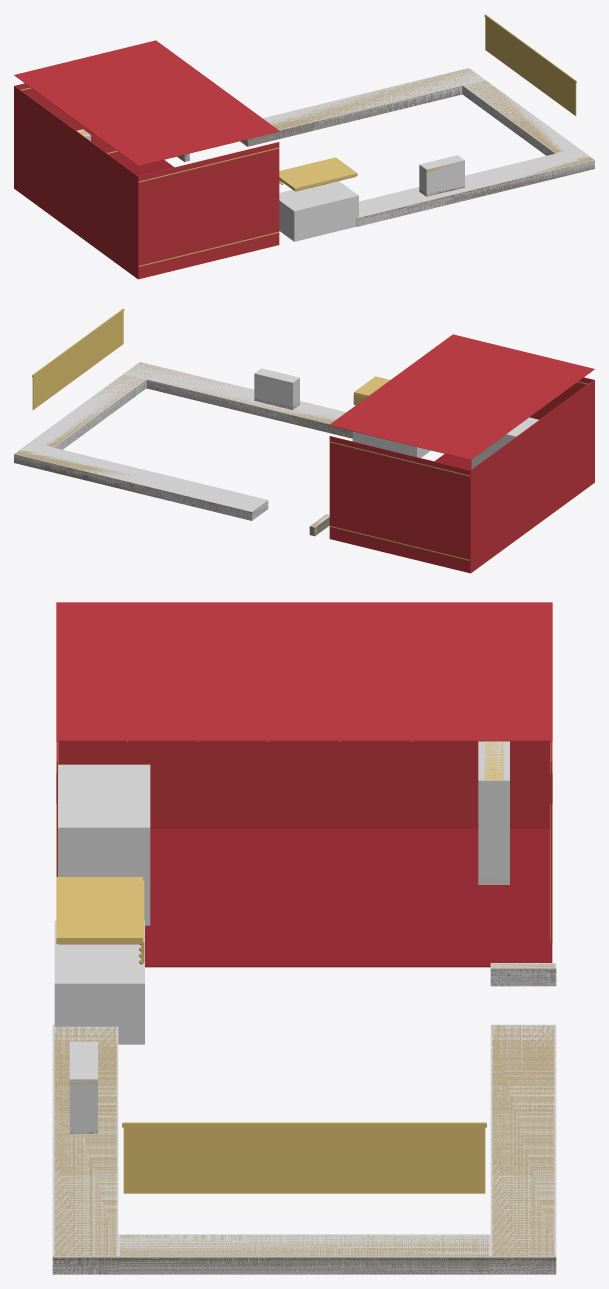
Rendered from kunning-v6-0c83b4364eef.glb.
3 renders of one model, top to bottom at view 1: azimuth 30°, elevation 25°; view 2: azimuth 150°, elevation 25°; view 3: azimuth 270°, elevation 25°, orthographic. The views are drawn at different scales.
Parts seen in each view (by area): view 1: merged_red_cloth, COL_kang_n, COL_kang_s_w, merged_kang_mat, COL_stove, merged_kang_brick, merged_yellow_silk, COL_kang_w, merged_gold_lacquer, COL_shrine, warm_carpet, merged_kang_wood; view 2: merged_red_cloth, COL_kang_s_w, COL_kang_n, merged_kang_brick, merged_yellow_silk, COL_kang_w, merged_kang_mat, COL_shrine, merged_gold_lacquer, COL_stove, COL_bed, merged_kang_wood; view 3: merged_red_cloth, warm_carpet, merged_kang_mat, merged_yellow_silk, COL_kang_w, COL_kang_s_w, COL_bed, COL_kang_n, merged_gold_lacquer, COL_stove, merged_kang_brick, COL_screen (+3 smaller).
Part boxes in pixels (left/top/right/bottom): merged_red_cloth: left=14, top=40, right=279, bottom=279; COL_kang_n: left=356, top=148, right=594, bottom=226; COL_kang_s_w: left=240, top=68, right=485, bottom=146; merged_kang_mat: left=270, top=69, right=593, bottom=176; COL_stove: left=279, top=181, right=358, bottom=241; merged_kang_brick: left=177, top=87, right=594, bottom=226; merged_yellow_silk: left=485, top=14, right=576, bottom=115; COL_kang_w: left=462, top=80, right=577, bottom=155; merged_gold_lacquer: left=21, top=14, right=576, bottom=266; COL_shrine: left=419, top=155, right=464, bottom=196; warm_carpet: left=120, top=160, right=174, bottom=175; merged_kang_wood: left=280, top=86, right=584, bottom=218; merged_red_cloth: left=329, top=334, right=594, bottom=573; COL_kang_s_w: left=14, top=442, right=268, bottom=520; COL_kang_n: left=123, top=362, right=352, bottom=438; merged_kang_brick: left=14, top=381, right=352, bottom=536; merged_yellow_silk: left=32, top=308, right=123, bottom=409; COL_kang_w: left=31, top=374, right=146, bottom=449; merged_kang_mat: left=15, top=362, right=336, bottom=526; COL_shrine: left=254, top=368, right=299, bottom=409; merged_gold_lacquer: left=32, top=308, right=587, bottom=560; COL_stove: left=352, top=431, right=430, bottom=457; COL_bed: left=471, top=417, right=538, bottom=468; merged_kang_wood: left=16, top=383, right=329, bottom=528; merged_red_cloth: left=56, top=602, right=552, bottom=962; warm_carpet: left=145, top=829, right=550, bottom=967; merged_kang_mat: left=54, top=964, right=554, bottom=1255; merged_yellow_silk: left=123, top=1122, right=485, bottom=1193; COL_kang_w: left=118, top=1234, right=490, bottom=1274; COL_kang_s_w: left=490, top=1024, right=556, bottom=1274; COL_bed: left=58, top=764, right=150, bottom=925; COL_kang_n: left=52, top=1024, right=118, bottom=1274; merged_gold_lacquer: left=56, top=741, right=552, bottom=1127; COL_stove: left=54, top=920, right=144, bottom=1044; merged_kang_brick: left=52, top=971, right=556, bottom=1274; COL_screen: left=478, top=741, right=509, bottom=884.
Size of the model in its own units: 29.7 by 7.08 by 14.2.
